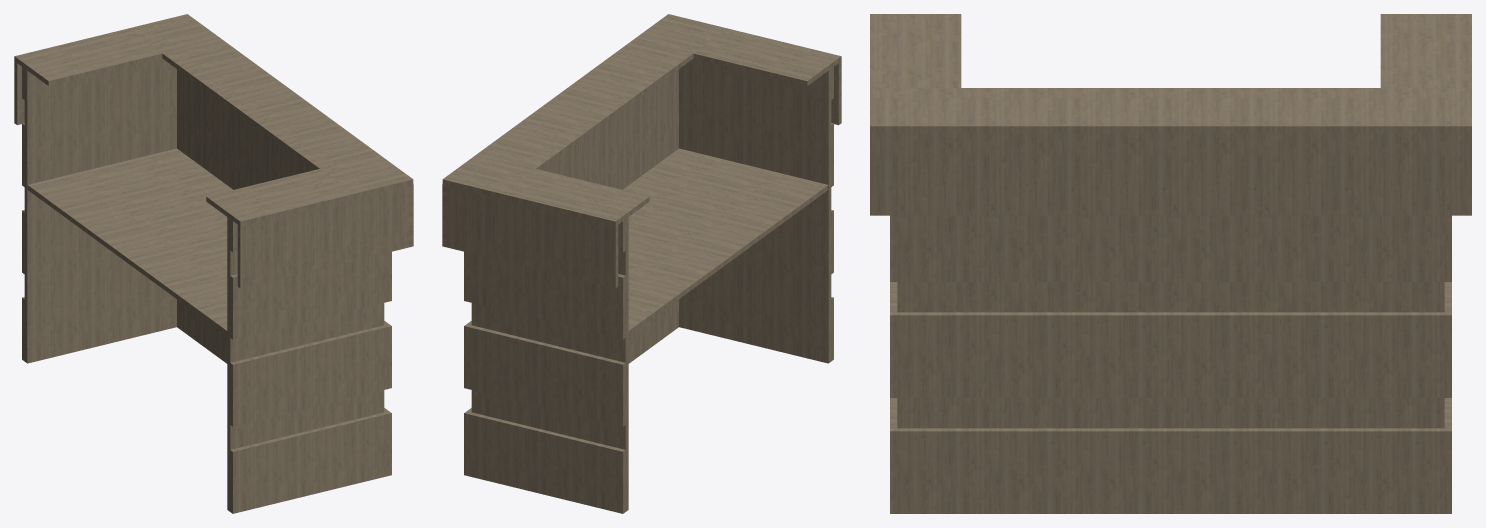
The model's file is res1.glb.
3 renders of one model, left to right at view 1: azimuth 30°, elevation 25°; view 2: azimuth 150°, elevation 25°; view 3: azimuth 270°, elevation 25°, orthographic. The views are drawn at different scales.
Parts seen in each view (by area): view 1: Box042, Box044, Box045, Box050, Box051, Box052, Box043, Box041, Box053, Box046, Box047, Box049; view 2: Box041, Box044, Box045, Box049, Box055, Box056, Box043, Box042, Box057, Box047, Box046, Box050; view 3: Box048, Box063, Box064, Box065, Box043, Box045, Box046, Box047.
Part boxes in pixels (x1=…): Box042: x1=24, y1=58, x2=176, y2=363; Box044: x1=27, y1=148, x2=232, y2=335; Box045: x1=128, y1=14, x2=413, y2=198; Box050: x1=237, y1=185, x2=408, y2=288; Box051: x1=230, y1=412, x2=386, y2=513; Box052: x1=230, y1=325, x2=386, y2=426; Box043: x1=177, y1=69, x2=314, y2=363; Box041: x1=227, y1=217, x2=384, y2=511; Box053: x1=230, y1=253, x2=386, y2=339; Box046: x1=206, y1=169, x2=354, y2=226; Box047: x1=14, y1=28, x2=162, y2=85; Box049: x1=14, y1=61, x2=24, y2=125; Box041: x1=679, y1=58, x2=831, y2=363; Box044: x1=623, y1=148, x2=828, y2=335; Box045: x1=442, y1=14, x2=727, y2=198; Box049: x1=447, y1=185, x2=618, y2=288; Box055: x1=469, y1=412, x2=625, y2=513; Box056: x1=469, y1=325, x2=625, y2=426; Box043: x1=541, y1=69, x2=678, y2=363; Box042: x1=471, y1=217, x2=628, y2=511; Box057: x1=469, y1=253, x2=625, y2=339; Box047: x1=501, y1=169, x2=649, y2=226; Box046: x1=693, y1=28, x2=841, y2=85; Box050: x1=831, y1=61, x2=841, y2=125; Box048: x1=870, y1=133, x2=1471, y2=215; Box063: x1=890, y1=428, x2=1451, y2=513; Box064: x1=890, y1=312, x2=1451, y2=397; Box065: x1=890, y1=215, x2=1451, y2=281; Box043: x1=904, y1=282, x2=1437, y2=428; Box045: x1=870, y1=88, x2=1471, y2=132; Box046: x1=870, y1=14, x2=961, y2=87; Box047: x1=1380, y1=14, x2=1471, y2=87.
Size of the model in its own units: 0.7296 by 1.2 by 1.65.
1 material, 1 textured.
